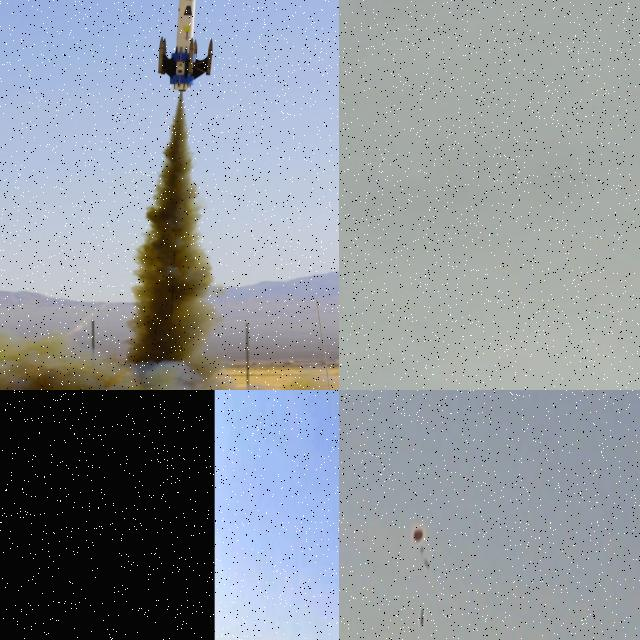Rocket: (154, 0, 215, 92), (420, 608, 424, 626)
